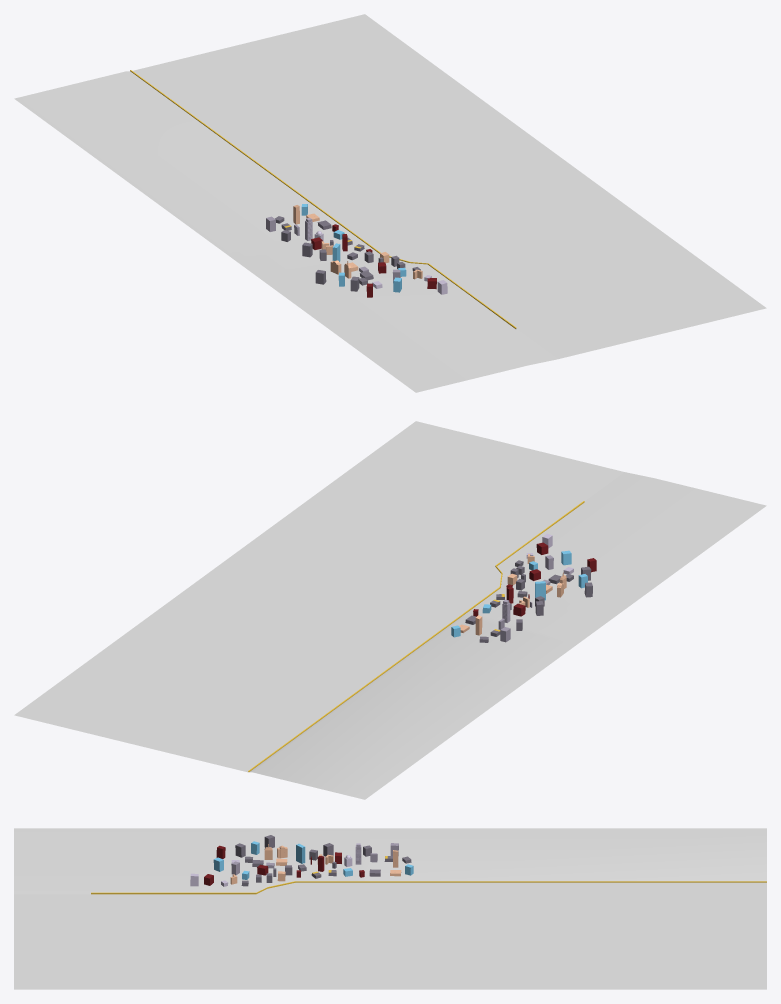
File: Skyline_Mesh.fbx
3 renders of one model, top to bottom at view 1: azimuth 30°, elevation 25°; view 2: azimuth 150°, elevation 25°; view 3: azimuth 270°, elevation 25°, orthographic. The views are drawn at different scales.
Parts seen in each view (by area): view 1: Cube; view 2: Cube; view 3: Cube.
Boxes of the visible parts, x1,y1,x2,y2 form: Cube: (14, 14, 766, 392); Cube: (14, 421, 766, 799); Cube: (14, 828, 766, 989).
Bounding box in the file's own units: 42885 × 5756 × 85045.
3 materials, 1 textured.
